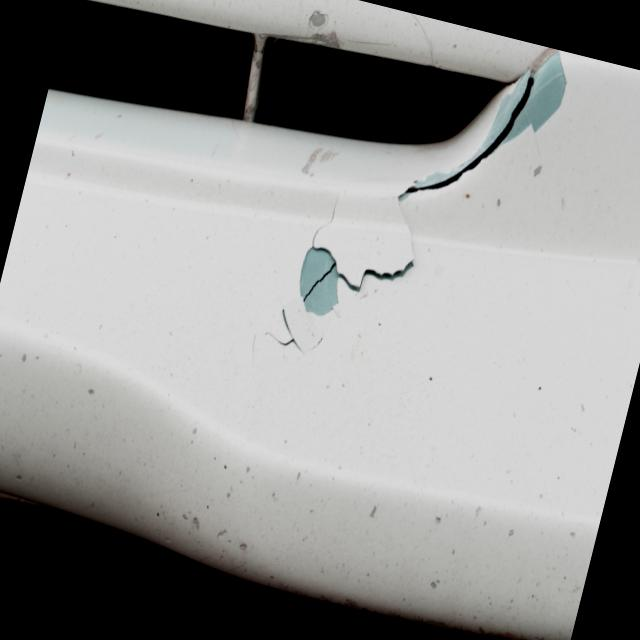Dechirure: (378, 45, 571, 267), (270, 172, 454, 349), (247, 277, 341, 381)
